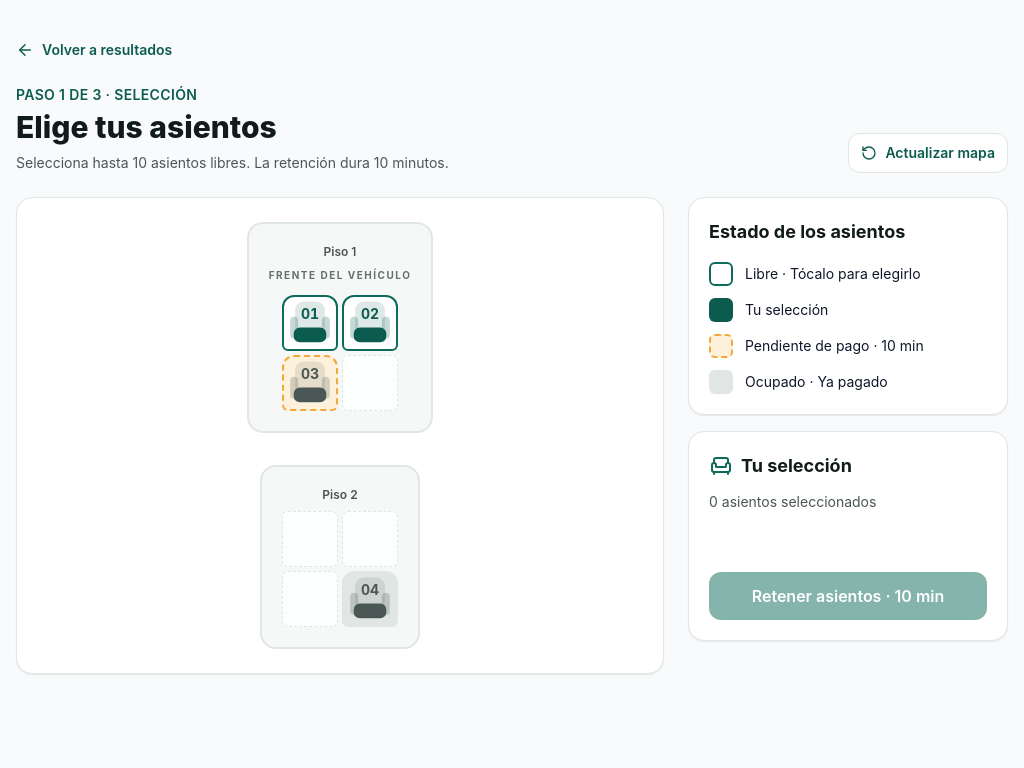
Test case: seat selection page › releases a hold using X-Hold-Token and accepts the empty 204 response
The image size is (1024, 768).
Step 1. Click the button named "Asiento 1, Libre" → (310, 323), box x1=282 y1=295 x2=338 y2=351
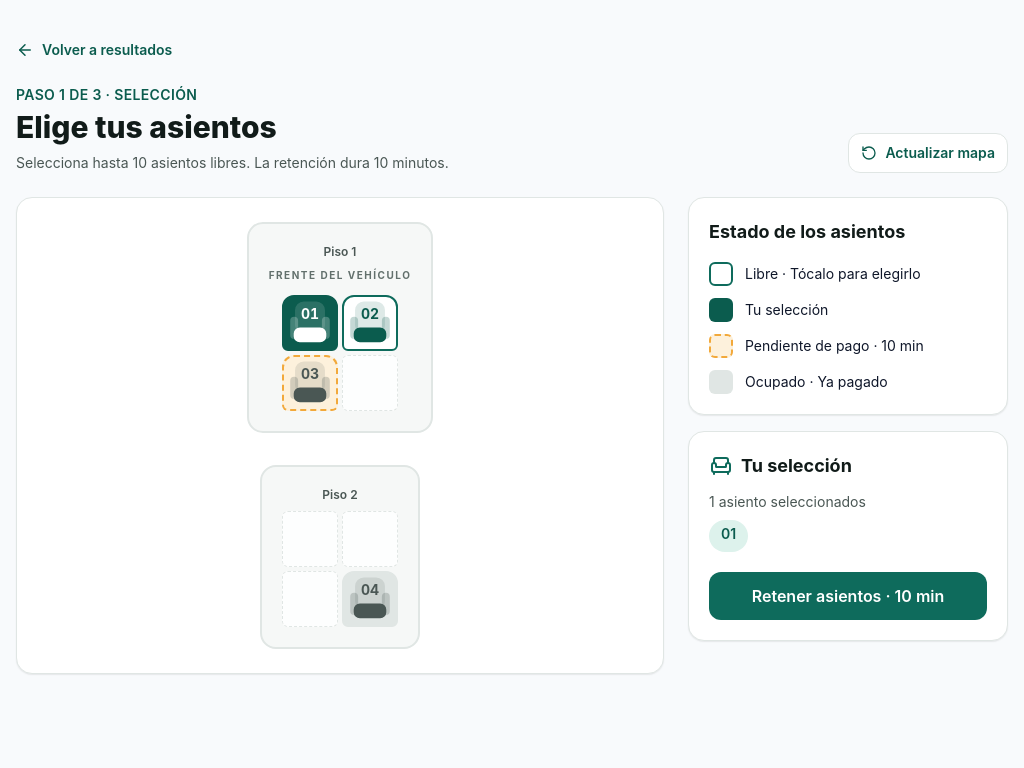
Step 2. Click the button "Retener asientos · 10 min" → (848, 596), box x1=709 y1=572 x2=987 y2=620
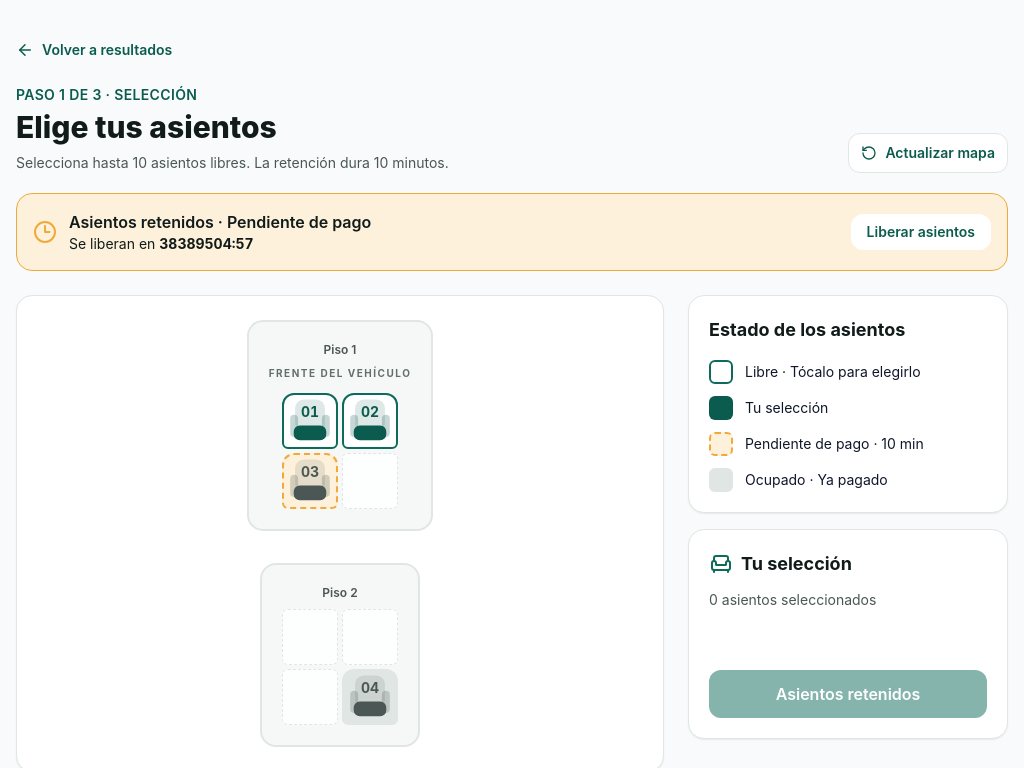
Step 3. Click the button "Liberar asientos" → (921, 232), box x1=851 y1=214 x2=991 y2=250
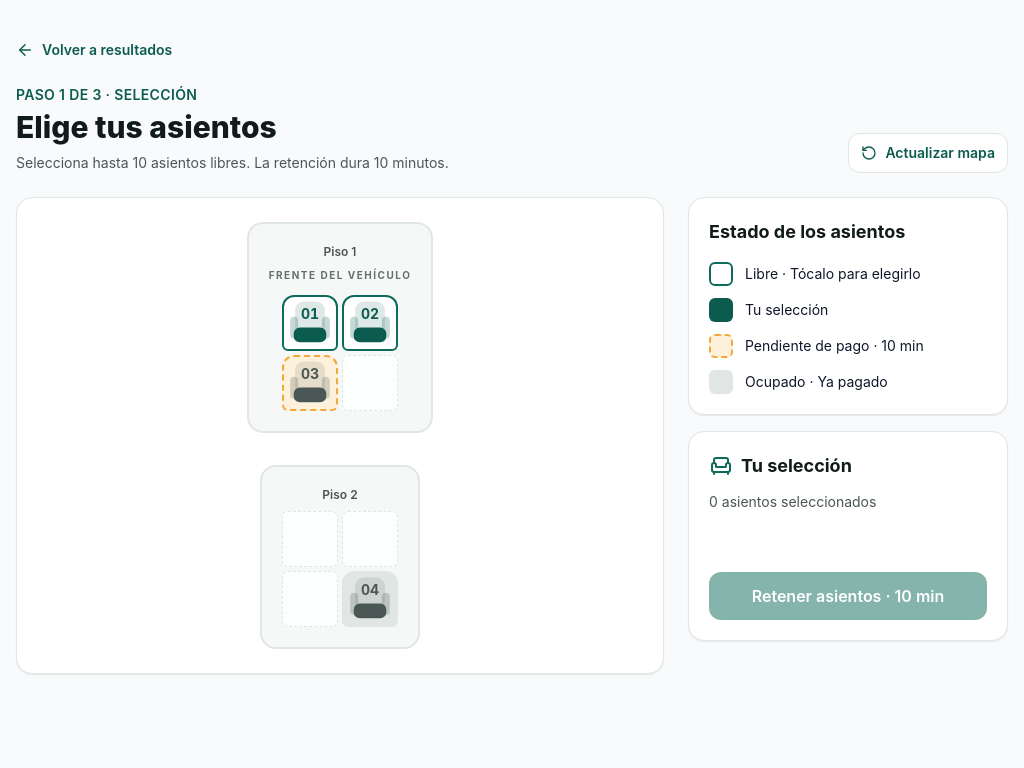
Check: the button "Retener asientos · 10 min" is shown, box x1=709 y1=572 x2=987 y2=620
